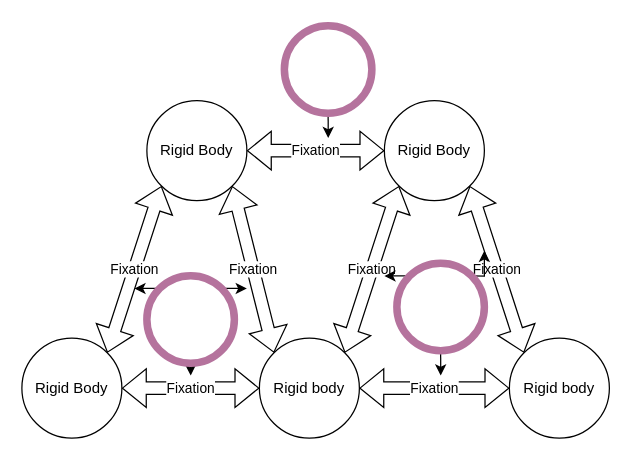
The diagram is 631 pixels wide and 460 high, and some of its shapes have lost their labels. The centre of each missing label's shape, as x and y in pixels:
Joint #1: point (190, 318)
Joint #2: point (440, 306)
Joint #3: point (327, 68)
